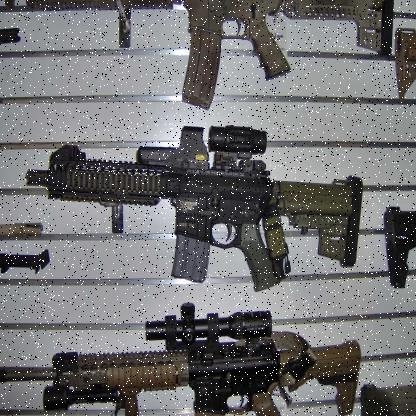rifle: (7, 128, 377, 304), (0, 299, 378, 415)
